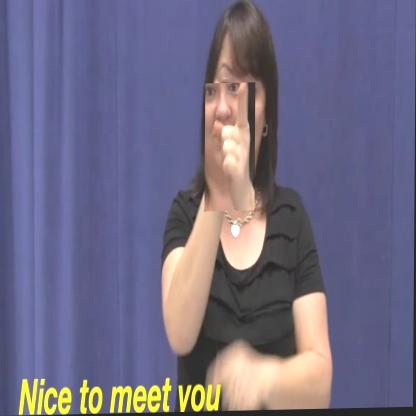NiceToMeetYou: (205, 84, 256, 212)
